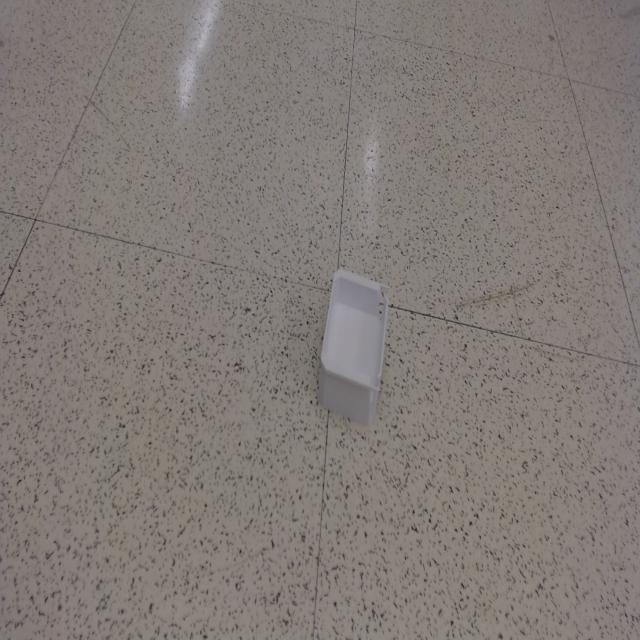wbox: (316, 266, 389, 428)
